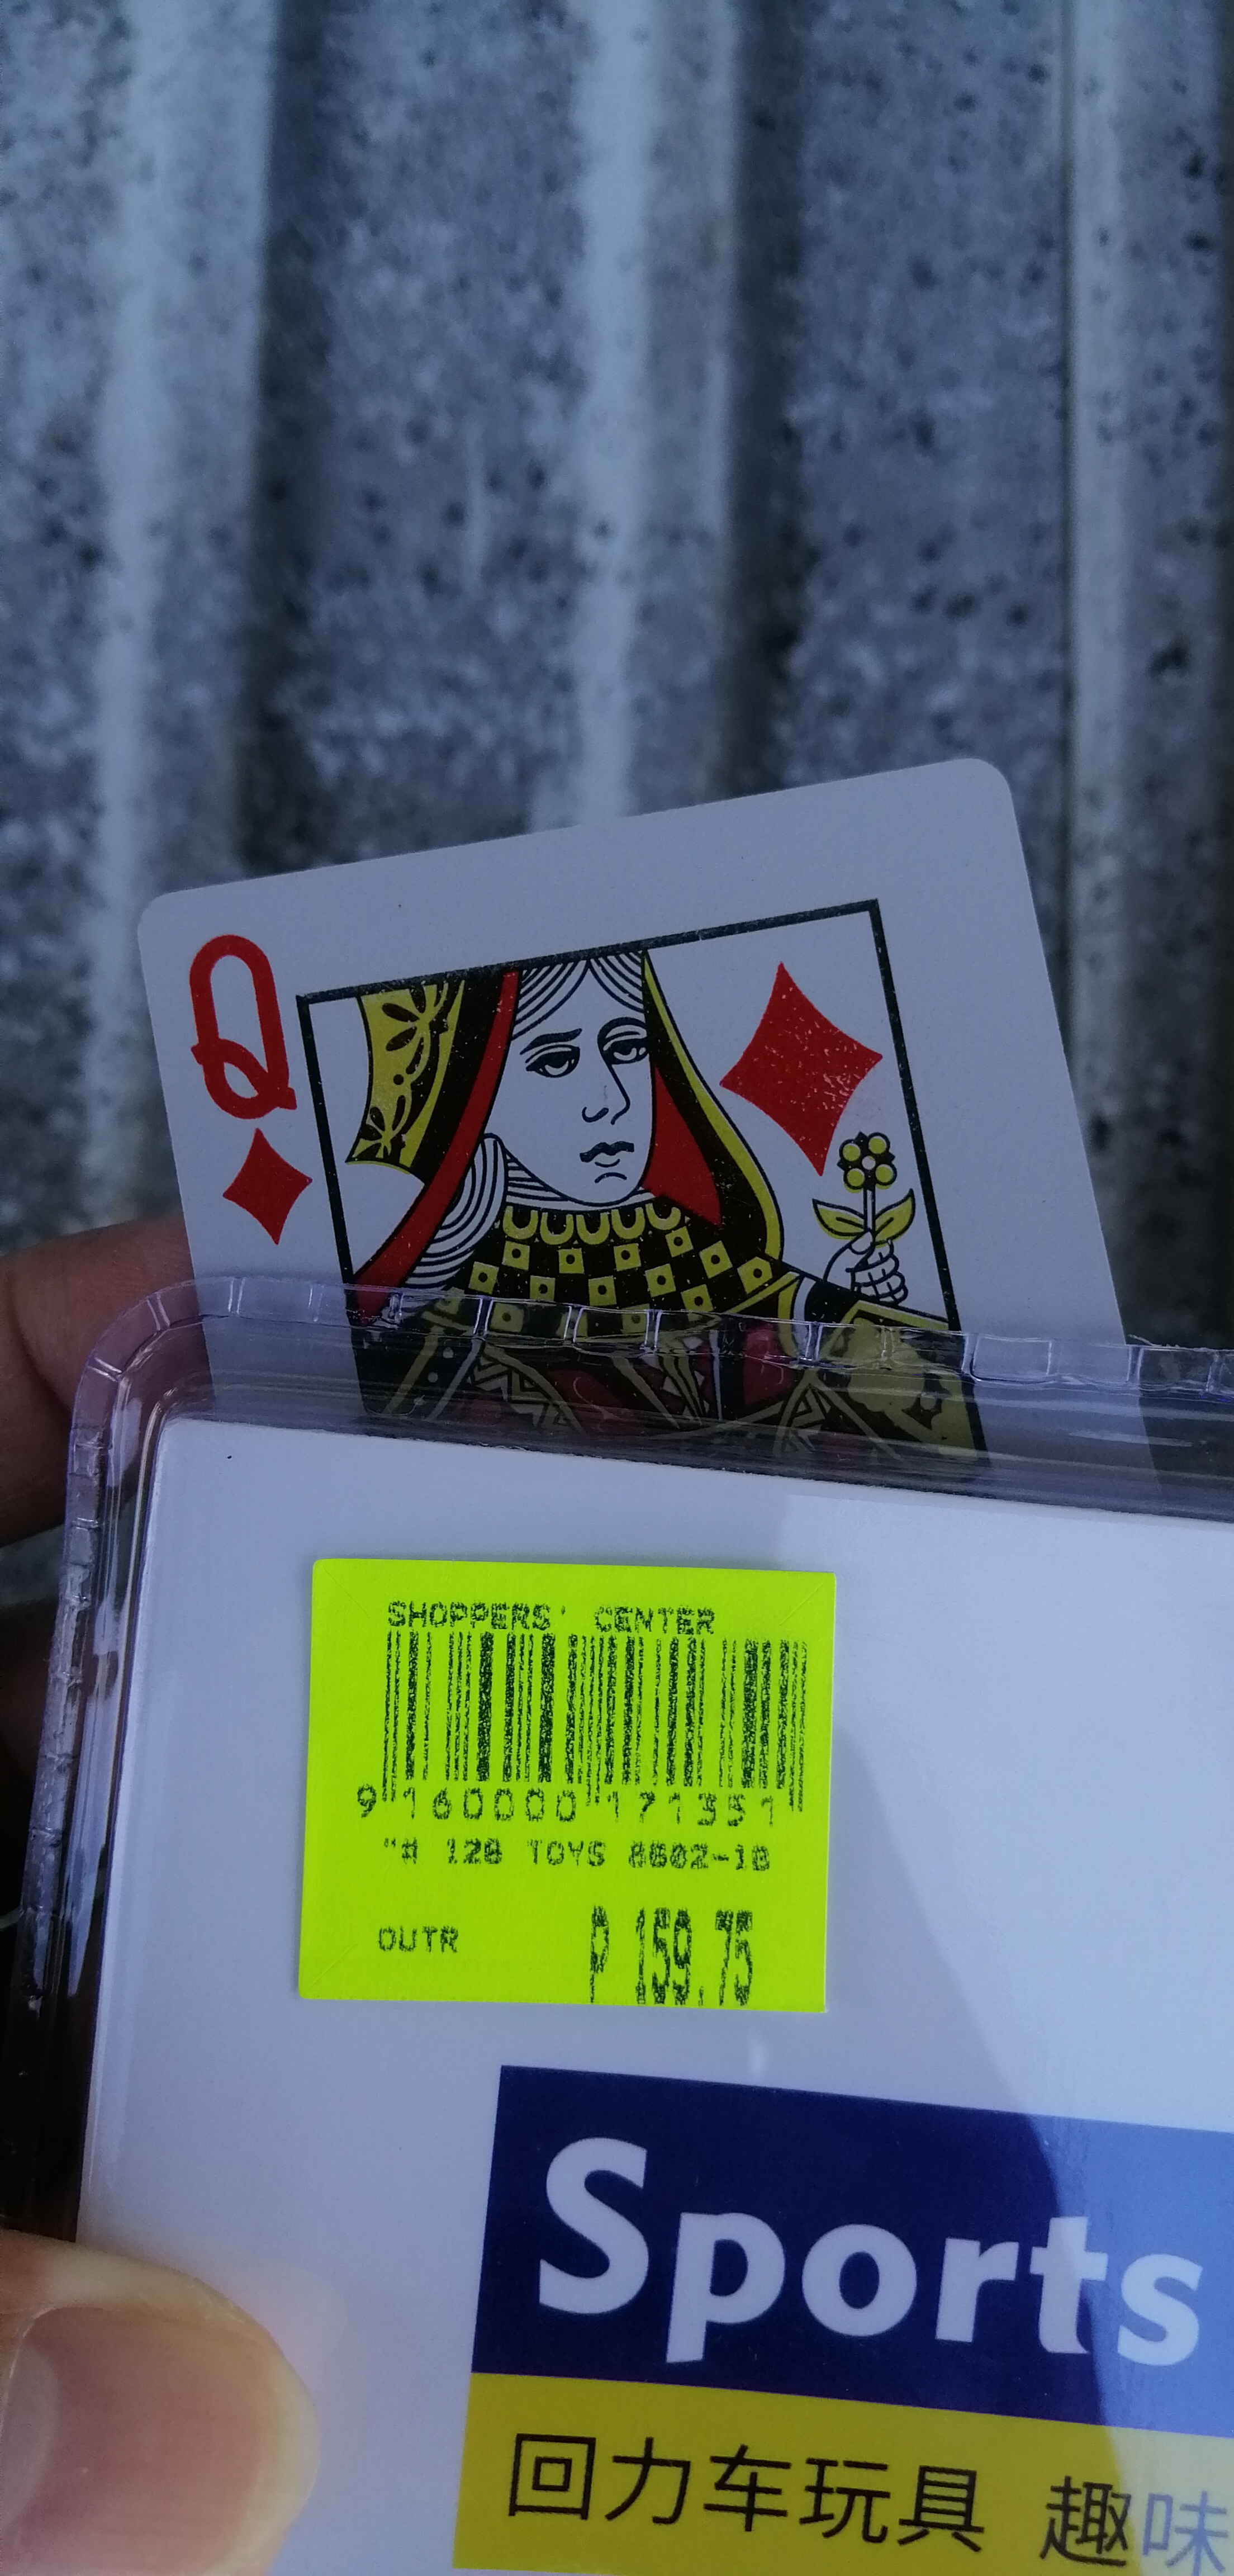queen: (159, 817, 1178, 1534)
